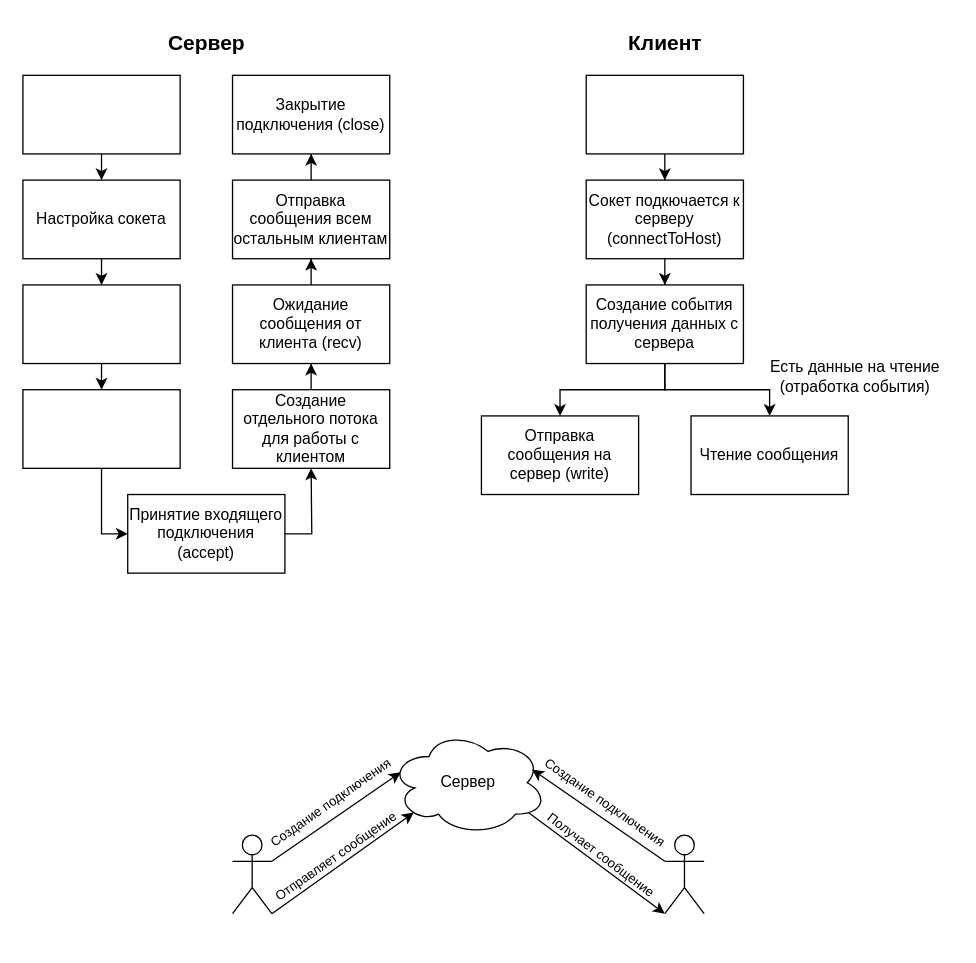
This 976x963 diagram has some shape labels left out. The centre of each missing label's shape, as x and y in pixels:
К лиент 1: [251,874]
Клиент 2: [684,874]
Привязка сокета к серверу (bind): [101,324]
Сервер начинает принимать входящие подключения (listen): [101,428]
Создание сервера: [101,114]
Создание сокета для TCP-соединения: [664,114]
